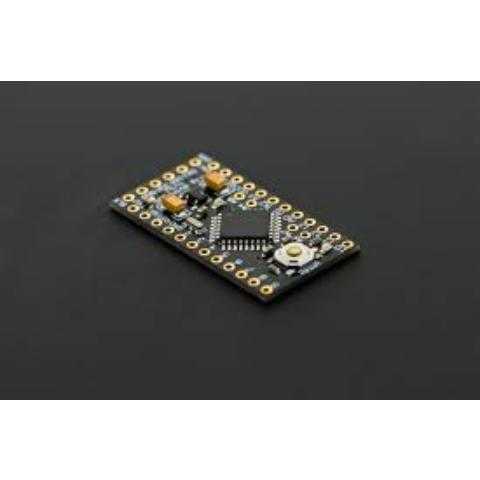Arduino-Pro-Mini: (96, 143, 368, 321)
